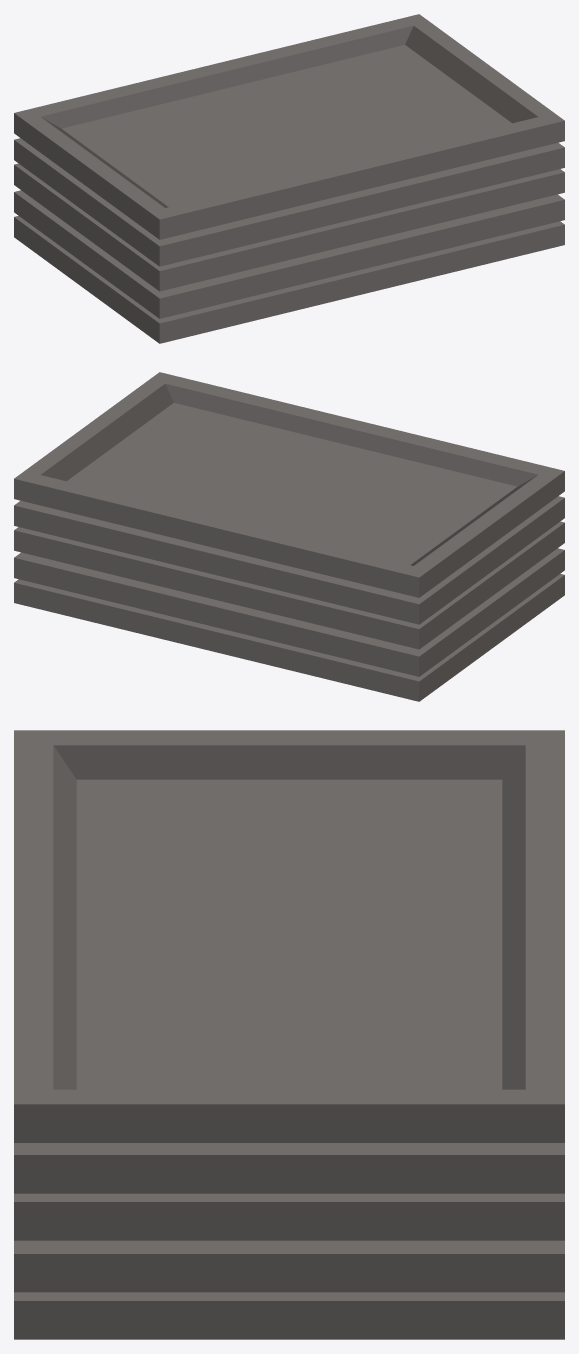
Rendered from FastFoodTray3.glb.
3 views of the same model, one above another, from view 1: azimuth 30°, elevation 25°; view 2: azimuth 150°, elevation 25°; view 3: azimuth 270°, elevation 25° (orthographic). The views are drawn at different scales.
Parts seen in each view (by area): view 1: SI_Prop_FastfoodTray_03; view 2: SI_Prop_FastfoodTray_03; view 3: SI_Prop_FastfoodTray_03.
Boxes of the visible parts, box(x1,y1,x2,y2) form: SI_Prop_FastfoodTray_03: box(14, 14, 564, 343); SI_Prop_FastfoodTray_03: box(14, 372, 564, 701); SI_Prop_FastfoodTray_03: box(14, 730, 564, 1339).
Size of the model in its own units: 0.012 by 0.00352 by 0.00748.
Materials: 1 (1 with a texture image).
